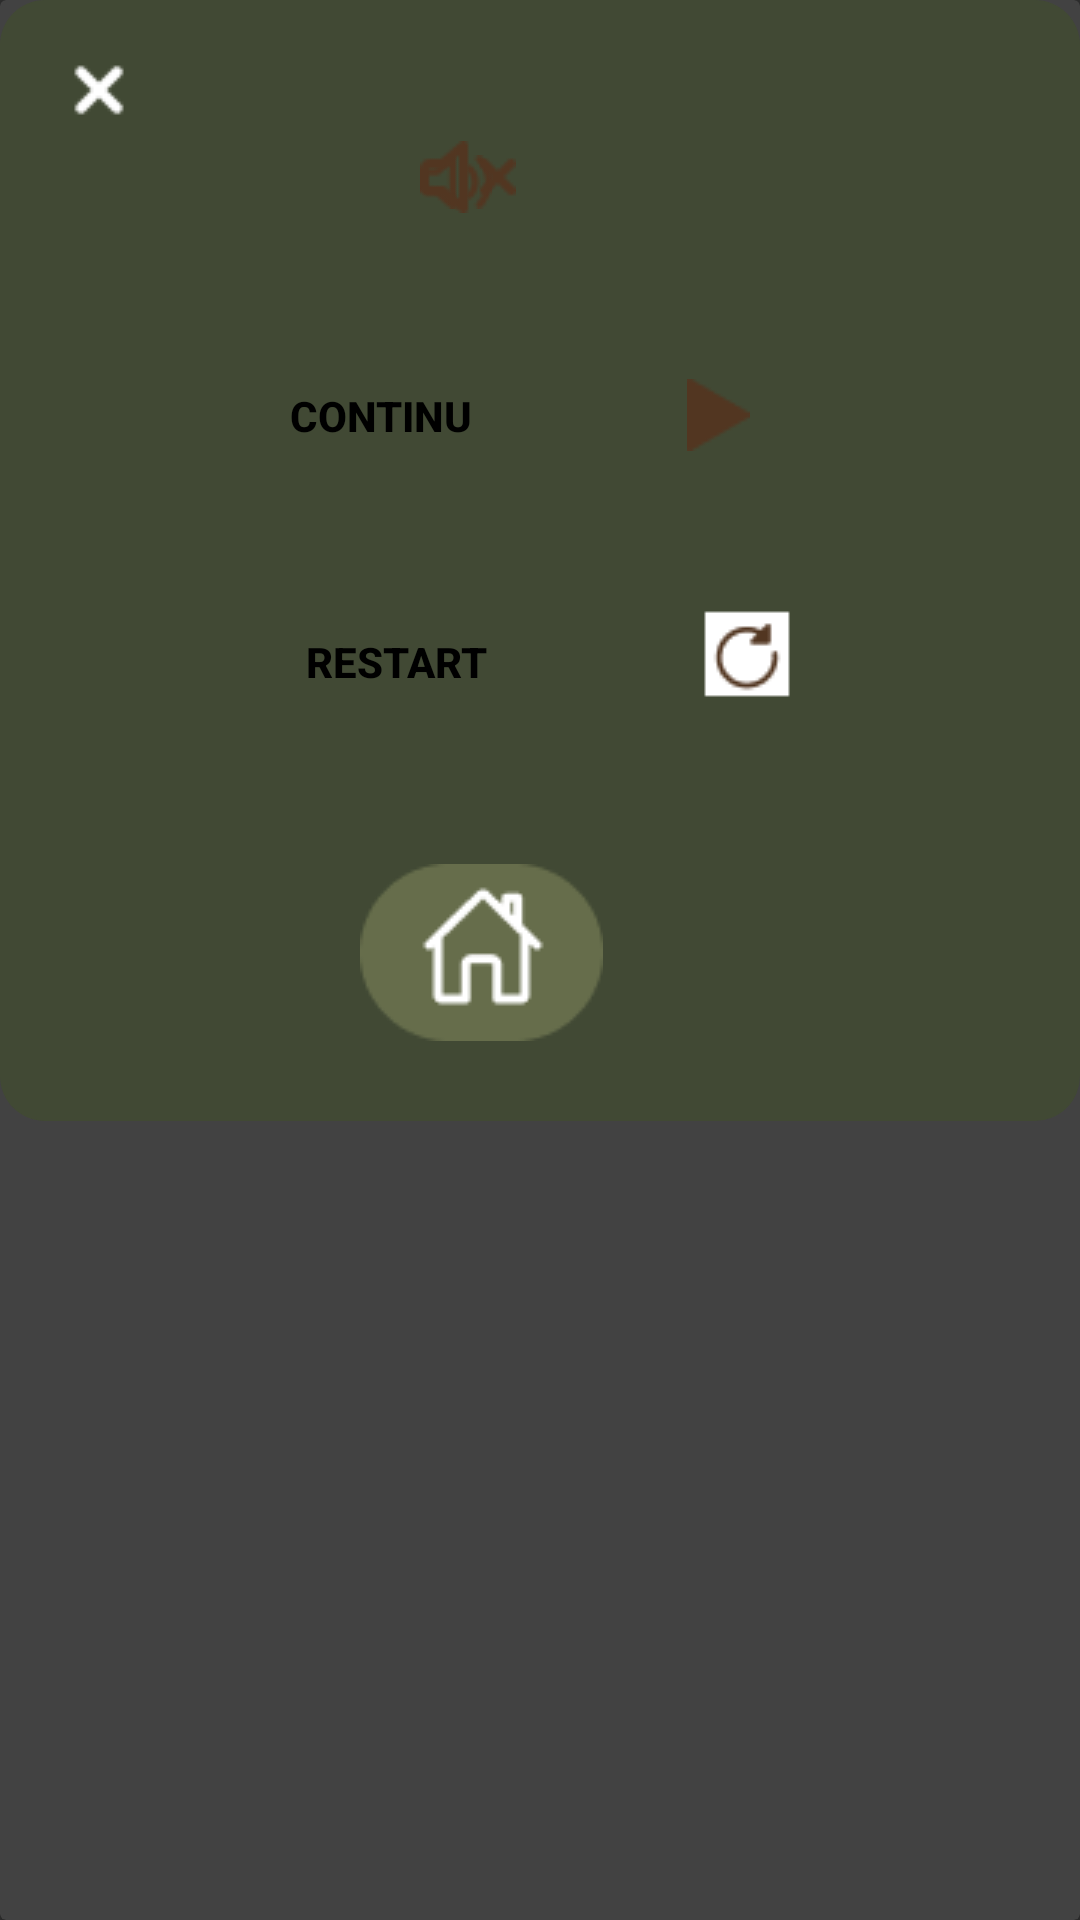

Icons on this 1080 × 1920 Android screen, each with the point to tap as point (x, y):
home: point (481, 952)
